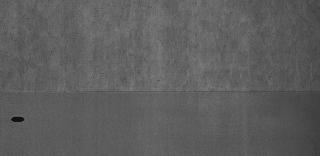punching hole: (10, 115, 26, 125)
silk spot: (5, 5, 307, 85)
welding line: (1, 87, 318, 97)
